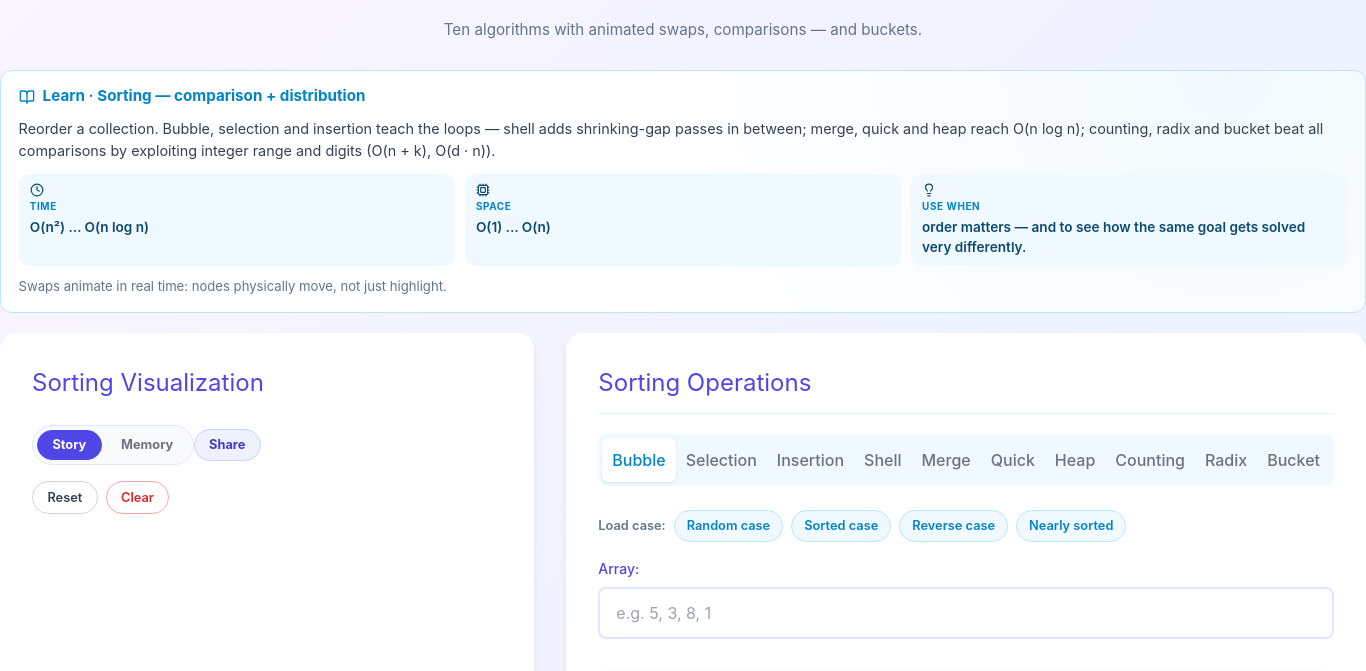
Test case: Sorting › switching to Selection swaps the run button
Click the button "Selection": click(721, 460) 676,438 -> 767,482
(page scrolled)
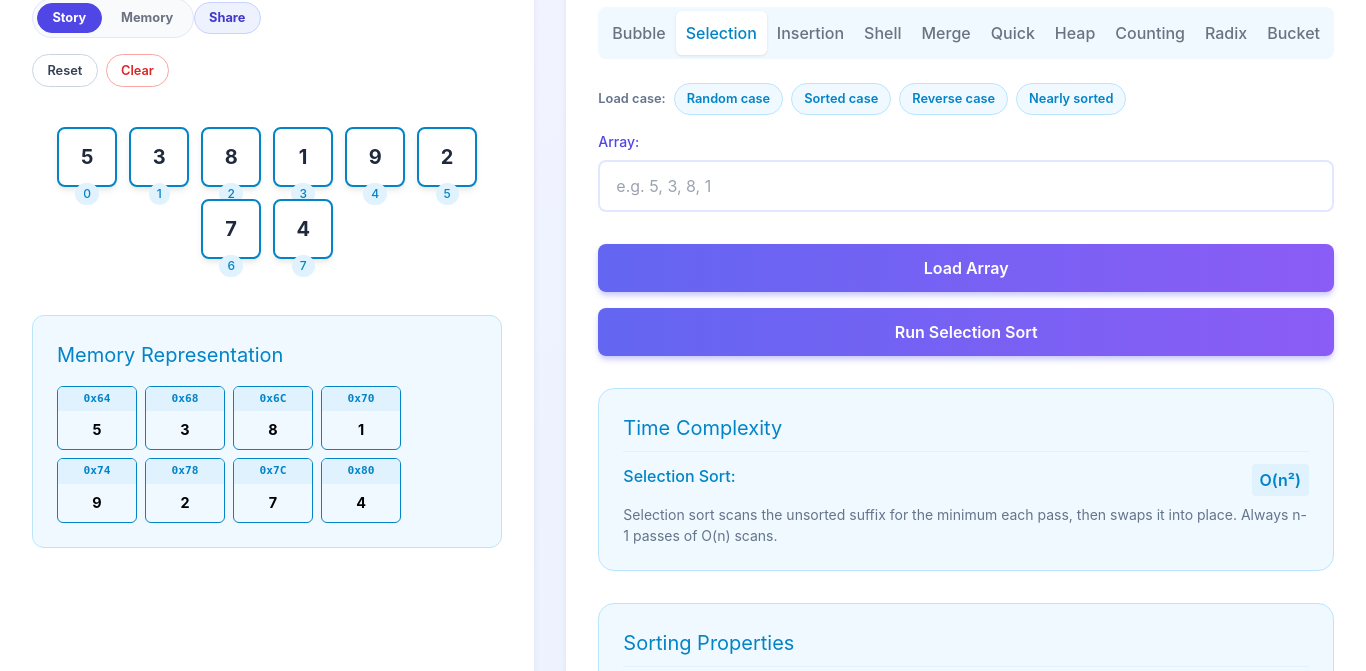
Now the button "Run Selection Sort" is shown, box 598,308 -> 1334,356
